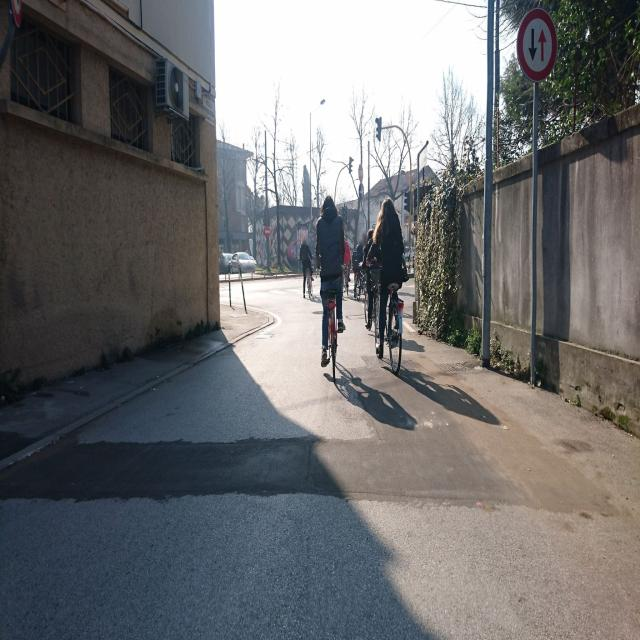car: (230, 251, 258, 275), (220, 252, 233, 272)
